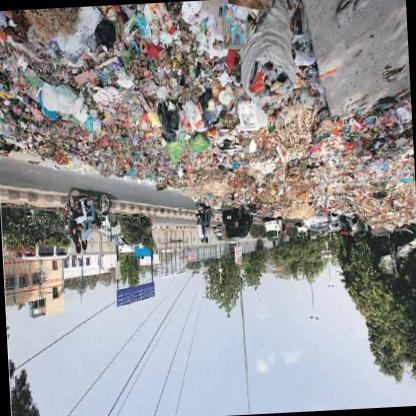Garbage: (31, 1, 216, 170), (143, 0, 297, 178), (170, 144, 371, 205), (122, 60, 229, 151), (190, 130, 298, 212), (280, 151, 401, 210), (6, 63, 94, 137), (220, 89, 260, 143), (131, 83, 172, 134), (192, 19, 221, 59), (334, 115, 361, 140), (10, 93, 26, 134), (100, 130, 123, 156), (345, 159, 365, 187), (308, 155, 324, 178), (318, 178, 332, 202), (180, 158, 198, 174), (378, 154, 393, 172), (224, 179, 238, 193)
